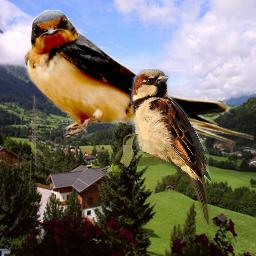Cuckoo: (101, 133, 139, 178)
Swallow: (22, 9, 254, 151), (130, 69, 211, 225)
